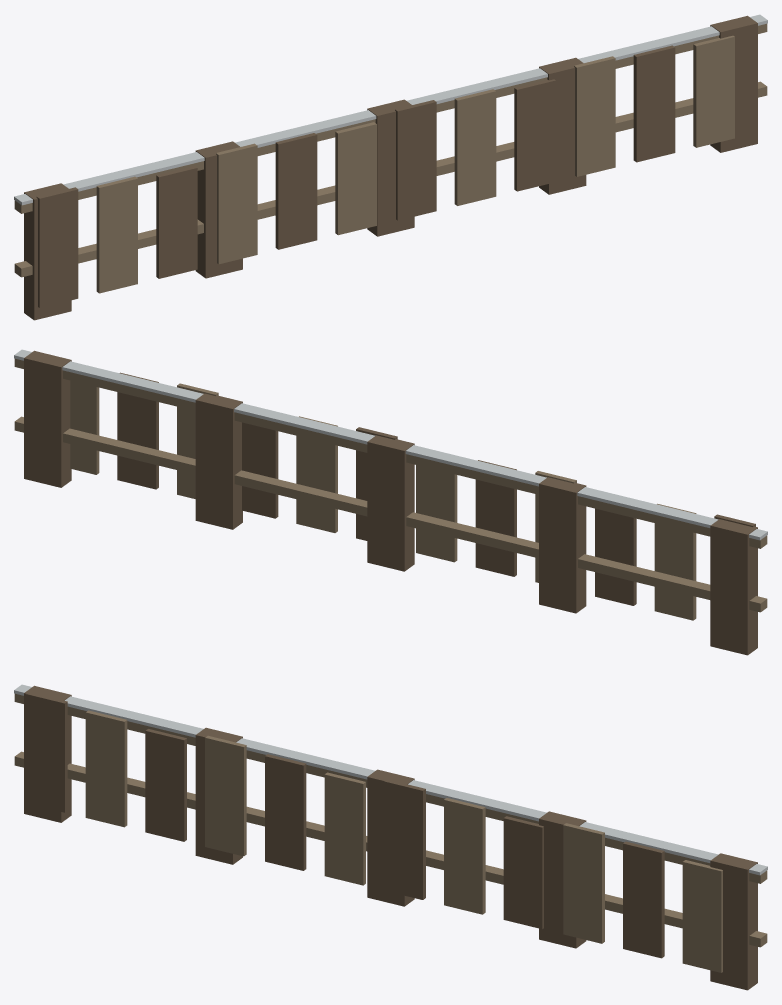
Rendered from windbreak_fence.glb.
3 renders of one model, top to bottom at view 1: azimuth 30°, elevation 25°; view 2: azimuth 150°, elevation 25°; view 3: azimuth 330°, elevation 25°, orthographic.
Visible parts, largest first — view 1: windbreak_fence; view 2: windbreak_fence; view 3: windbreak_fence.
Boxes of the visible parts, <box> form: windbreak_fence: <box>14,14,767,320</box>; windbreak_fence: <box>14,349,767,655</box>; windbreak_fence: <box>14,684,767,990</box>.
Size of the model in its own units: 7.68 by 1.2 by 0.2112.
